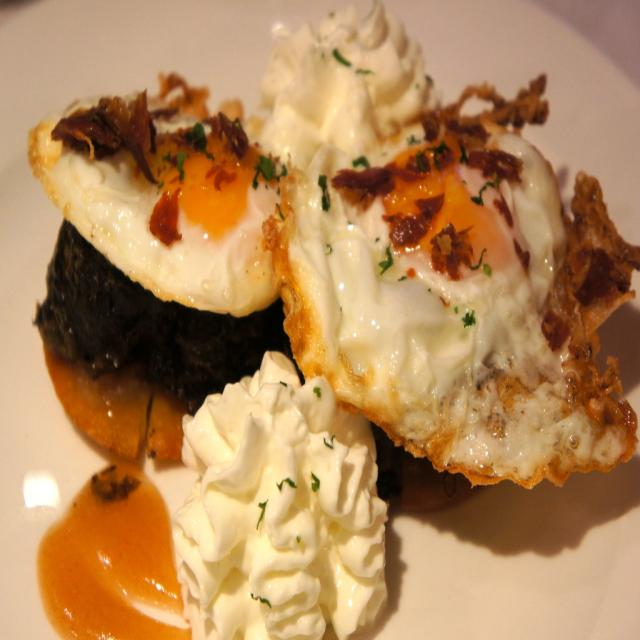Egg: (263, 121, 640, 487), (28, 93, 294, 314)
